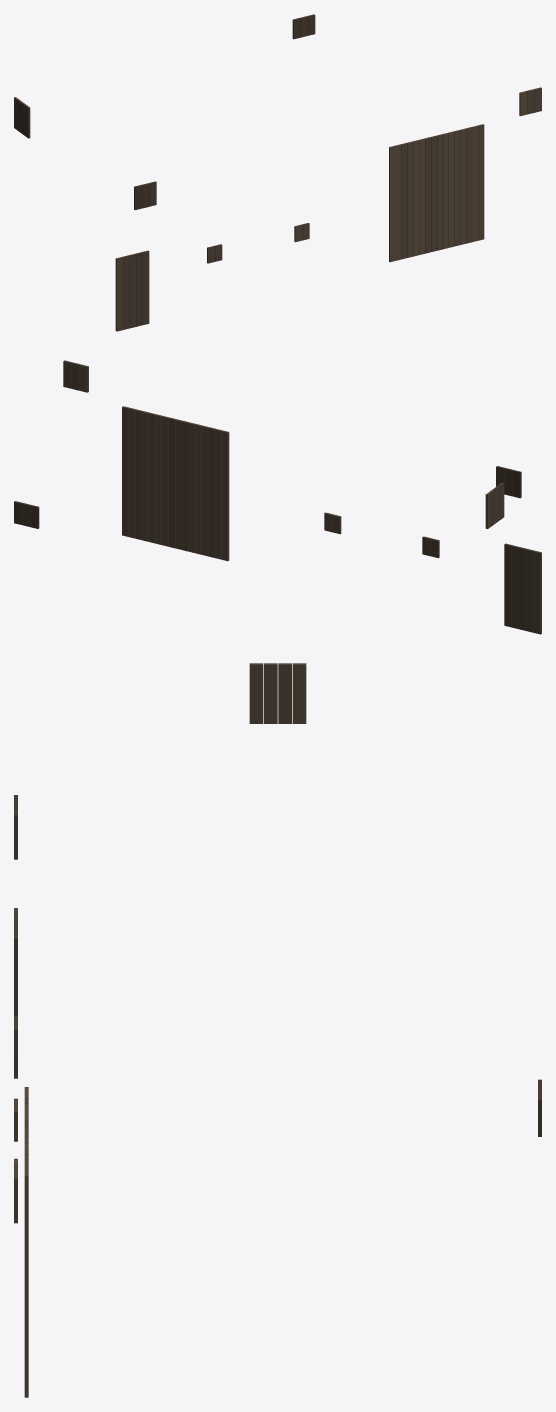
Rendered from SM_Bld_013_Wood.glb.
3 renders of one model, top to bottom at view 1: azimuth 30°, elevation 25°; view 2: azimuth 150°, elevation 25°; view 3: azimuth 270°, elevation 25°, orthographic. The views are drawn at different scales.
Parts seen in each view (by area): view 1: SM_Bld_013_Wood; view 2: SM_Bld_013_Wood; view 3: SM_Bld_013_Wood.
Boxes of the visible parts, bbox=[...] form: SM_Bld_013_Wood: bbox=[14, 14, 541, 331]; SM_Bld_013_Wood: bbox=[14, 360, 541, 634]; SM_Bld_013_Wood: bbox=[14, 663, 541, 1397].
Size of the model in its own units: 12.41 by 4.86 by 6.49.
